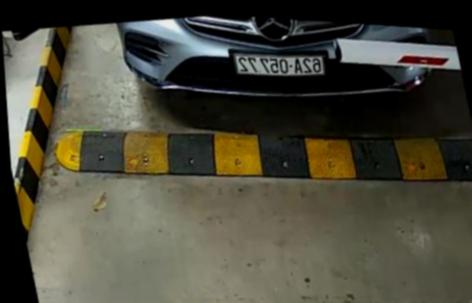License_Plate: (227, 46, 327, 86)
